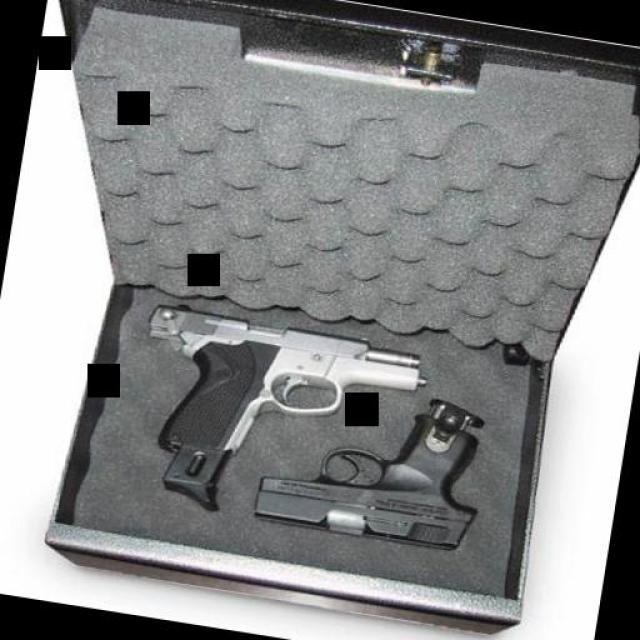gun: (132, 299, 432, 486), (246, 388, 509, 554)
